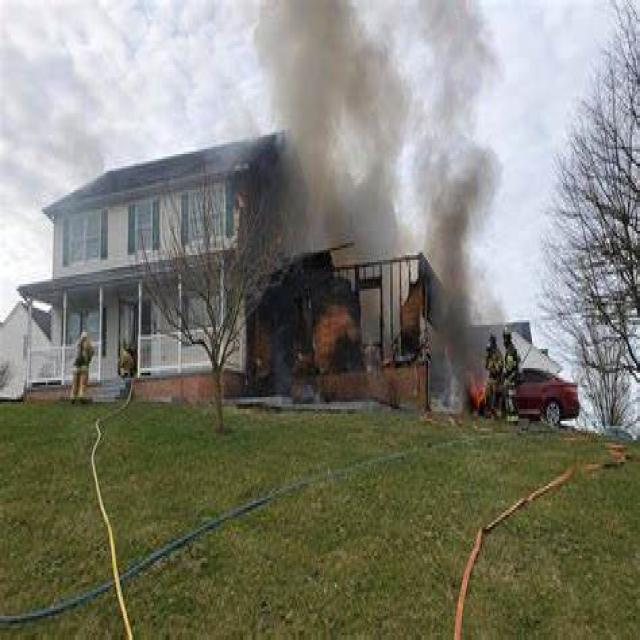smoke: (285, 11, 393, 227), (426, 52, 484, 302)
